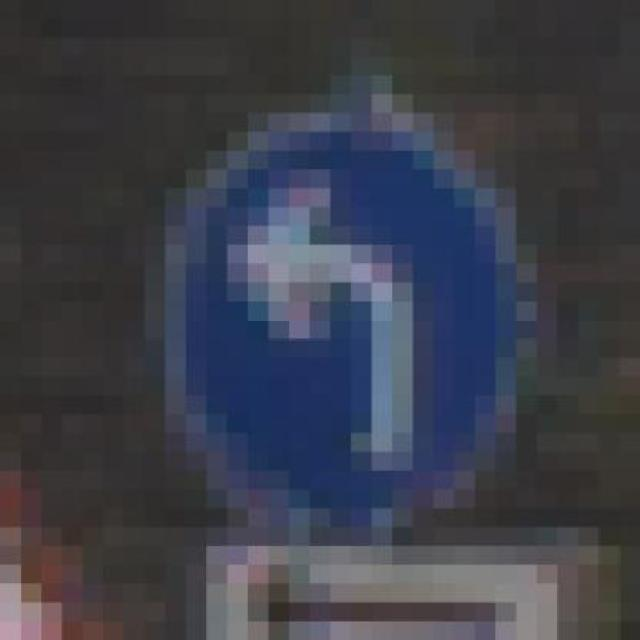Turn left ahead: (103, 75, 579, 528)
